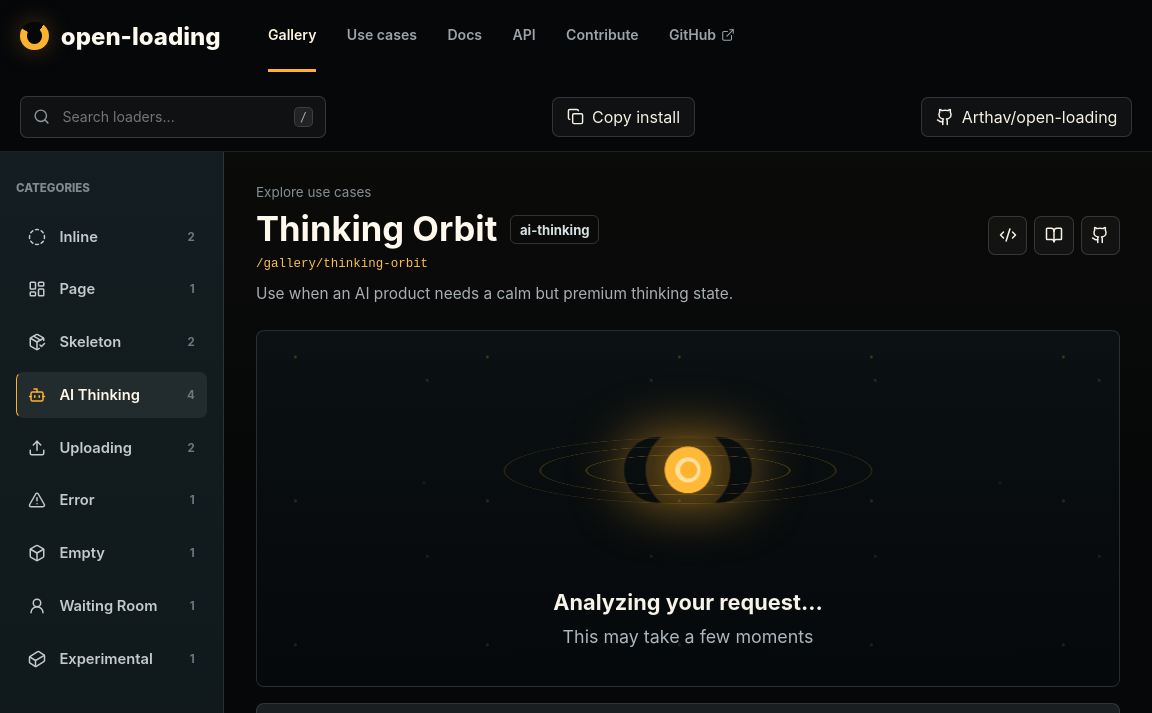
Test: gallery app › updates page content and active nav item from nav clicks
Click the link "Docs": (465, 34) [447,26,482,43]
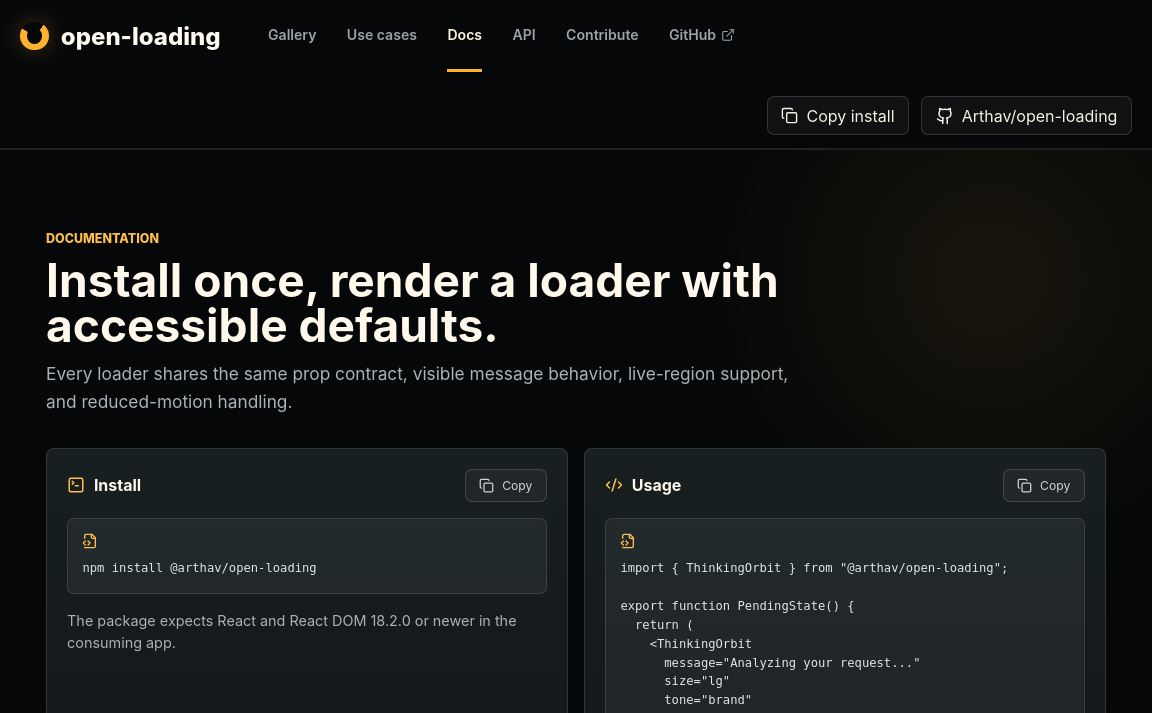
Expected: the heading "Install once, render a loader with accessible defaults." is shown, [46,252,779,353]
